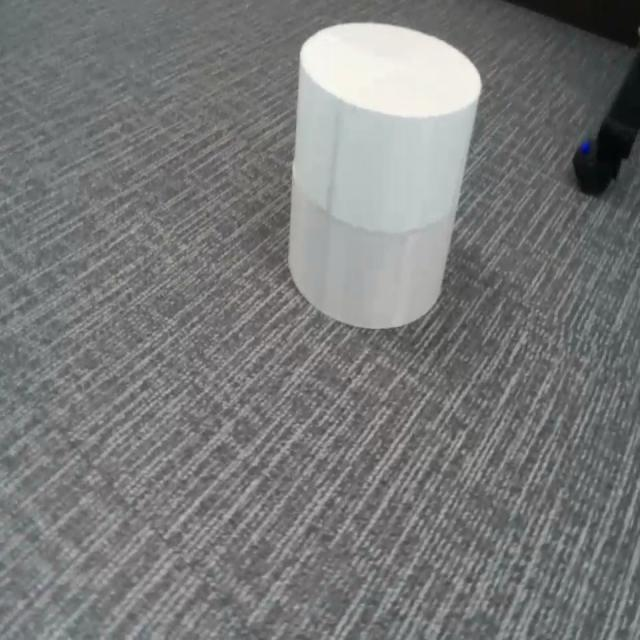cylinder: (288, 19, 483, 331)
